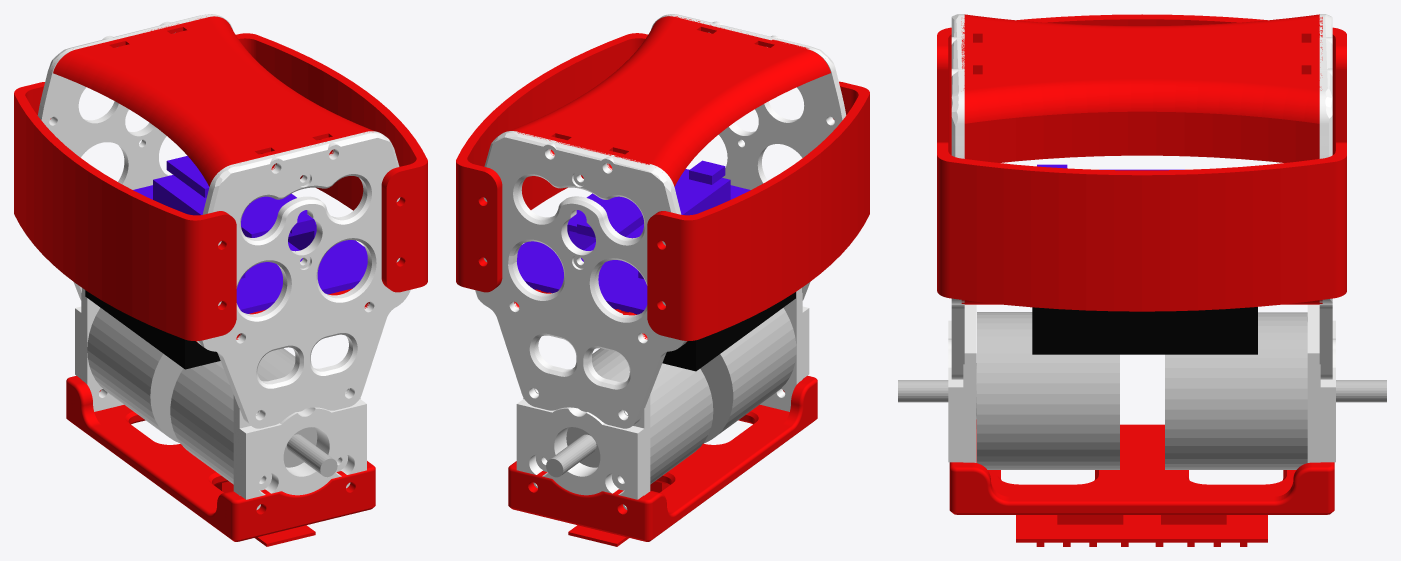
The model's file is Robot_V2.dae.
3 renders of one model, left to right at view 1: azimuth 30°, elevation 25°; view 2: azimuth 150°, elevation 25°; view 3: azimuth 270°, elevation 25°, orthographic. The views are drawn at different scales.
Parts seen in each view (by area): view 1: node3, node8, node6, node1, node7, node0, node12, node14, node4, node13, node11, node2 (+1 smaller); view 2: node4, node8, node6, node1, node7, node2, node12, node13, node3, node14, node11, node0 (+1 smaller); view 3: node7, node6, node8, node14, node13, node1, node11, node10, node0, node2, node3, node4 (+1 smaller).
Boxes of the visible parts, x1,y1,x2,y2 form: node3: (197,131,410,428); node8: (14,82,236,340); node6: (53,16,374,186); node1: (66,375,375,541); node7: (236,33,427,292); node0: (233,388,366,509); node12: (133,156,367,313); node14: (170,348,337,484); node4: (37,14,232,300); node13: (87,308,183,443); node11: (85,290,220,369); node2: (75,288,123,411); node4: (475,131,686,428); node8: (647,81,869,340); node6: (510,16,830,186); node1: (508,375,817,541); node7: (456,33,647,292); node2: (516,388,650,509); node12: (516,160,750,314); node13: (546,348,713,484); node3: (651,14,846,300); node14: (700,308,796,443); node11: (662,292,795,371); node0: (760,288,809,411); node7: (937,142,1346,311); node6: (961,14,1322,123); node8: (937,14,1346,162); node14: (898,312,1119,469); node13: (1165,312,1386,469); node1: (949,419,1334,514); node11: (1032,307,1257,354); node10: (1016,515,1267,546); node0: (948,304,976,462); node2: (1307,304,1335,462); node3: (951,14,964,379); node4: (1319,14,1332,379).
Size of the model in its own units: 0.1011 by 0.13 by 0.139.
